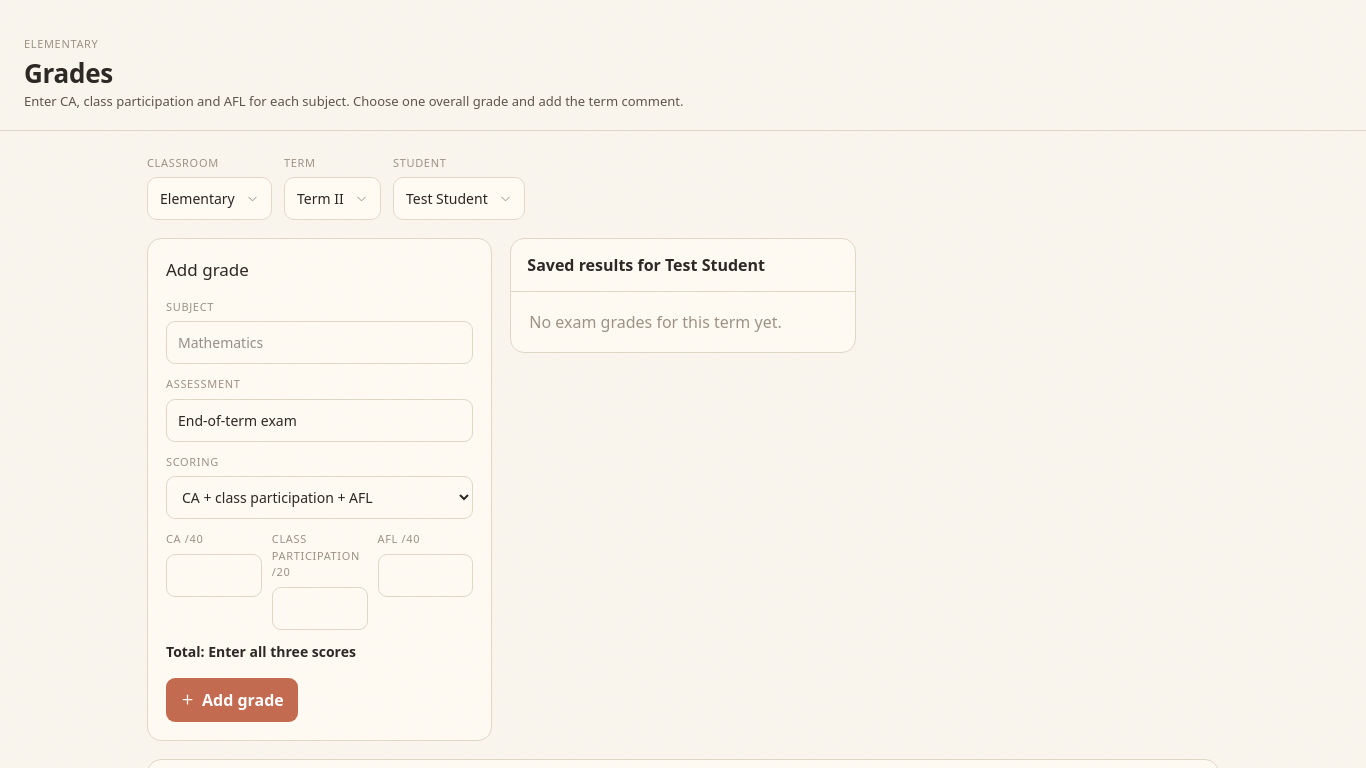
Test case: enters the three components, calculates the total and saves without a subject letter
The image size is (1366, 768).
Step 1. Type "Math" into the field labelled "Subject" → (320, 343), box 166,321 -> 473,364
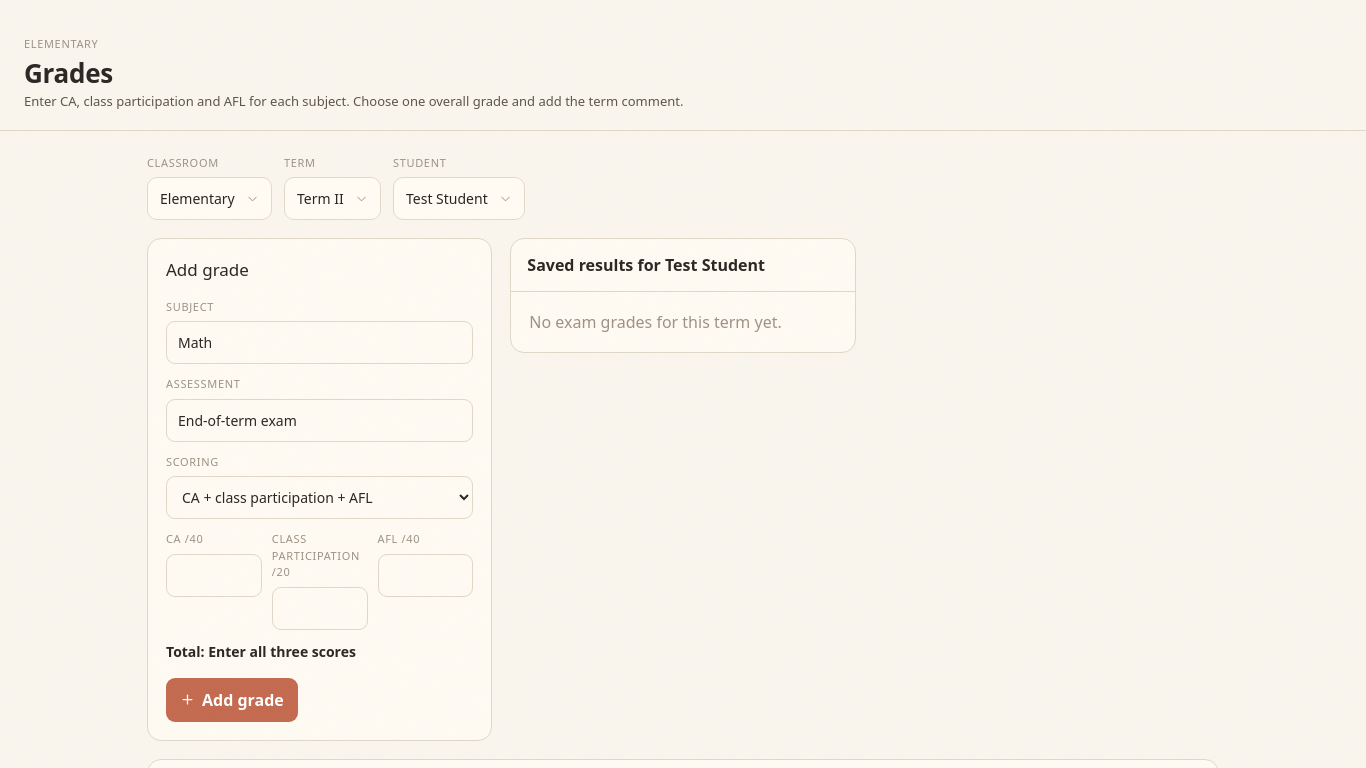
Step 2. Type "31.5" into the number field labelled "CA /40" → (214, 575), box 166,554 -> 262,597
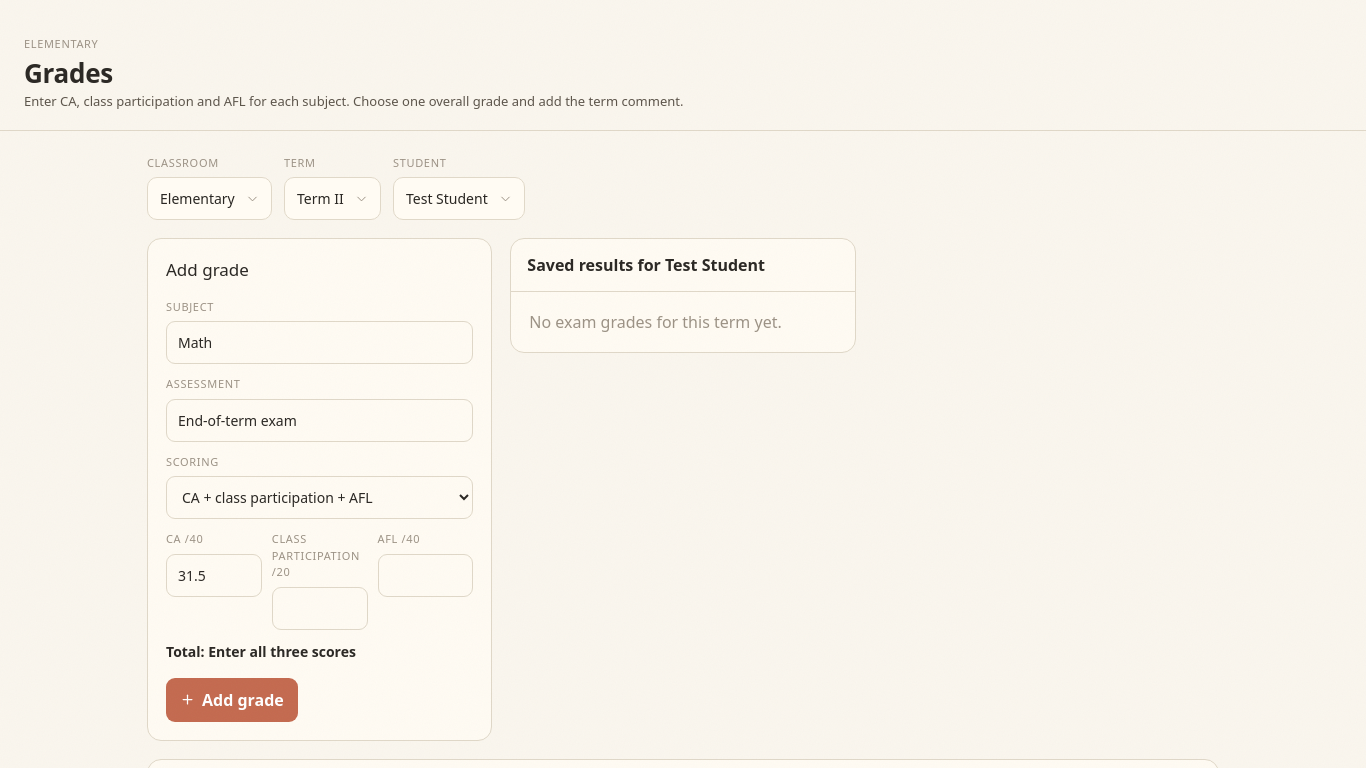
Step 3. Type "18" into the number field labelled "Class participation /20" → (320, 608), box 272,587 -> 368,630
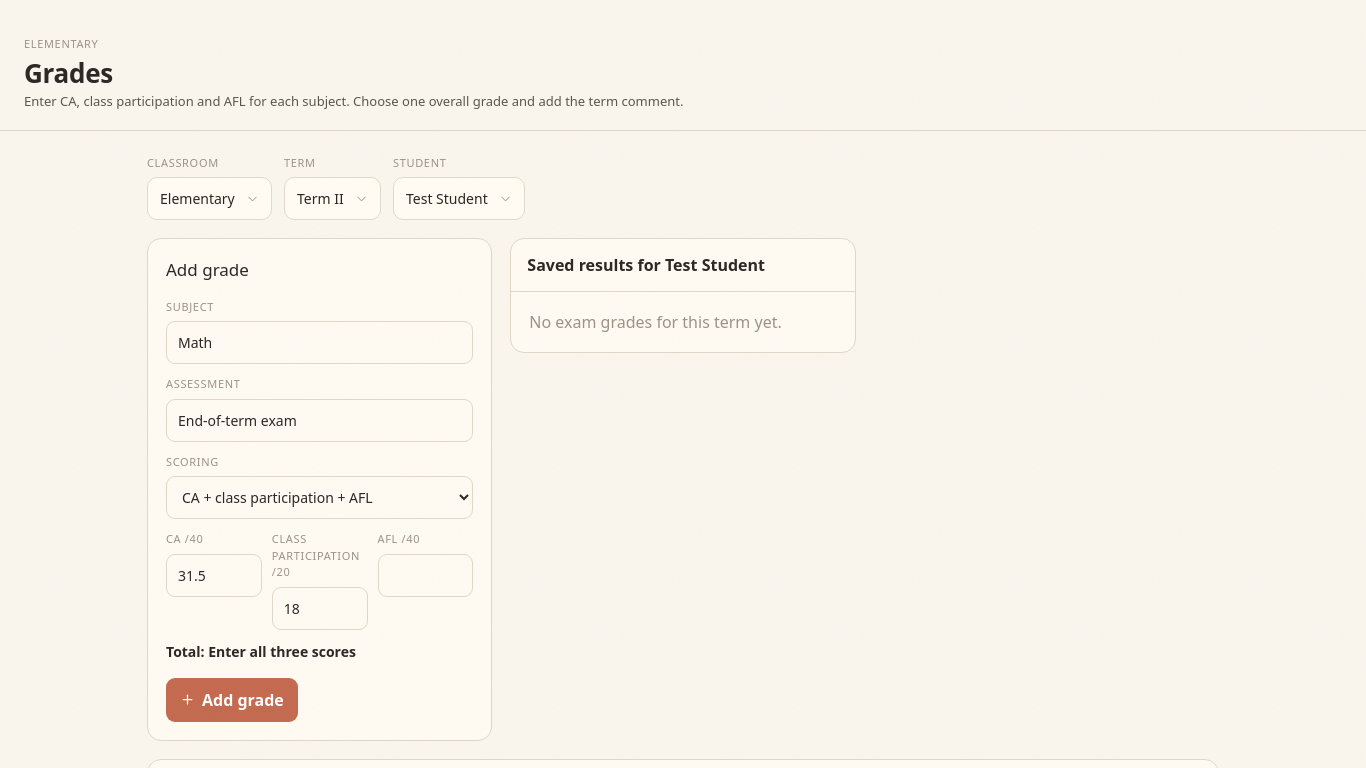
Step 4. Type "17" into the number field labelled "AFL /40" → (425, 575), box 378,554 -> 473,597
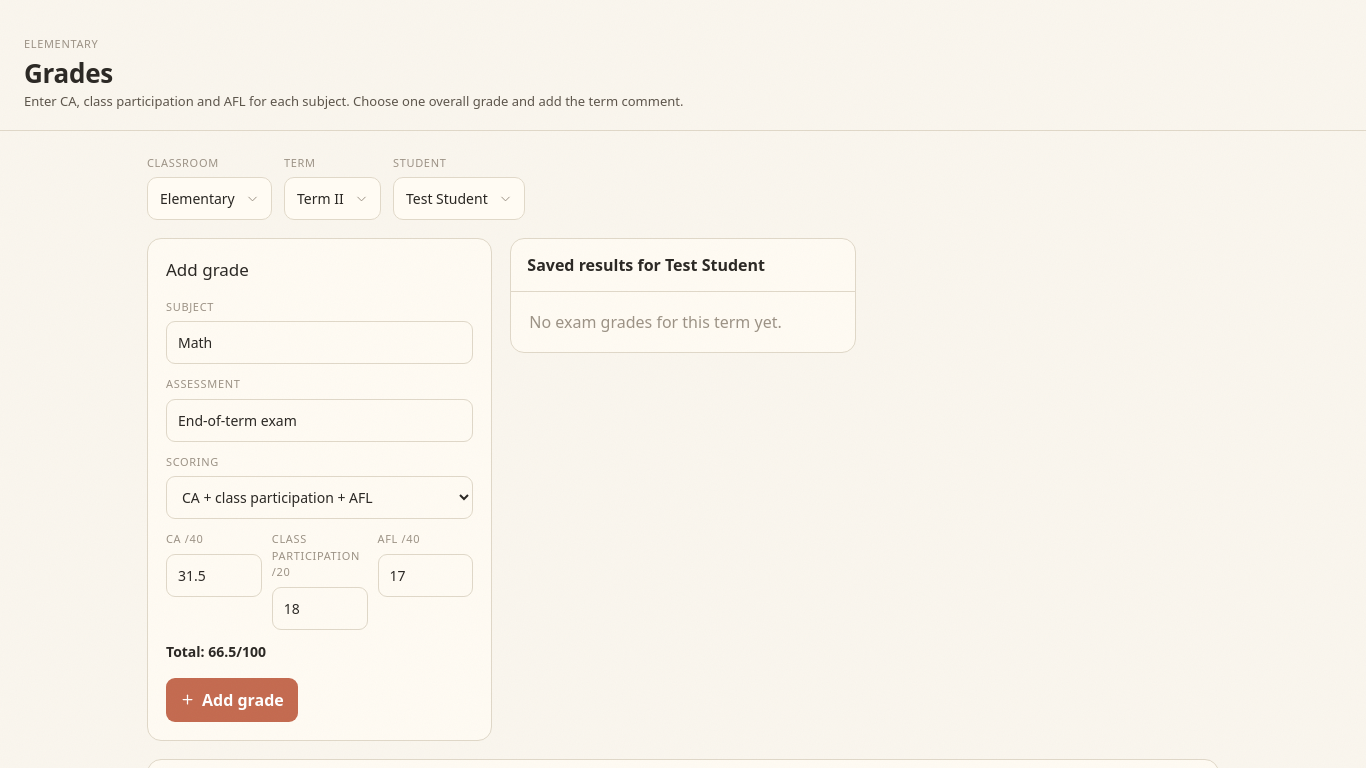
Result: the text named "Calculated total" reads "66.5/100" at 208,642 -> 266,661
Step 5. Click the button "Add grade" → click(232, 700), box 166,678 -> 298,722
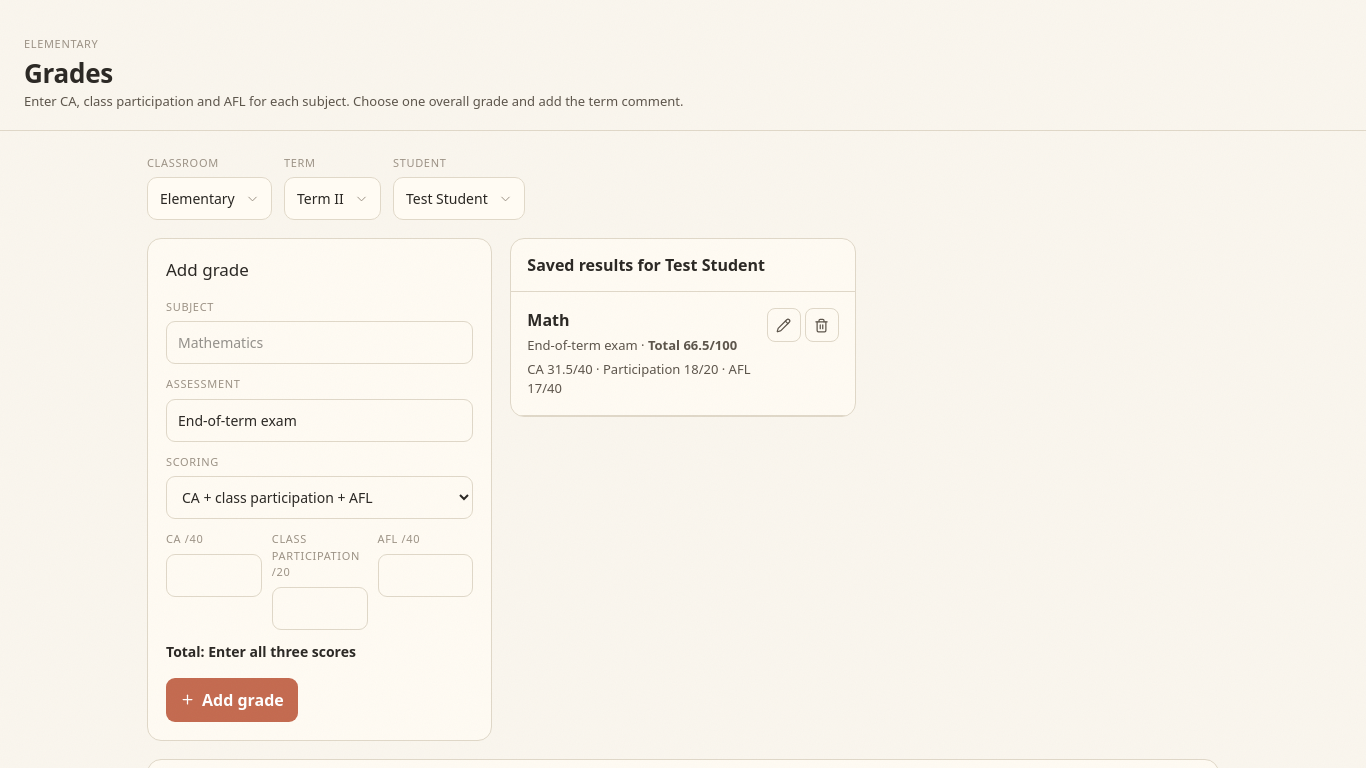
Result: the text "Total 66.5/100" is shown at 648,336 -> 737,354
